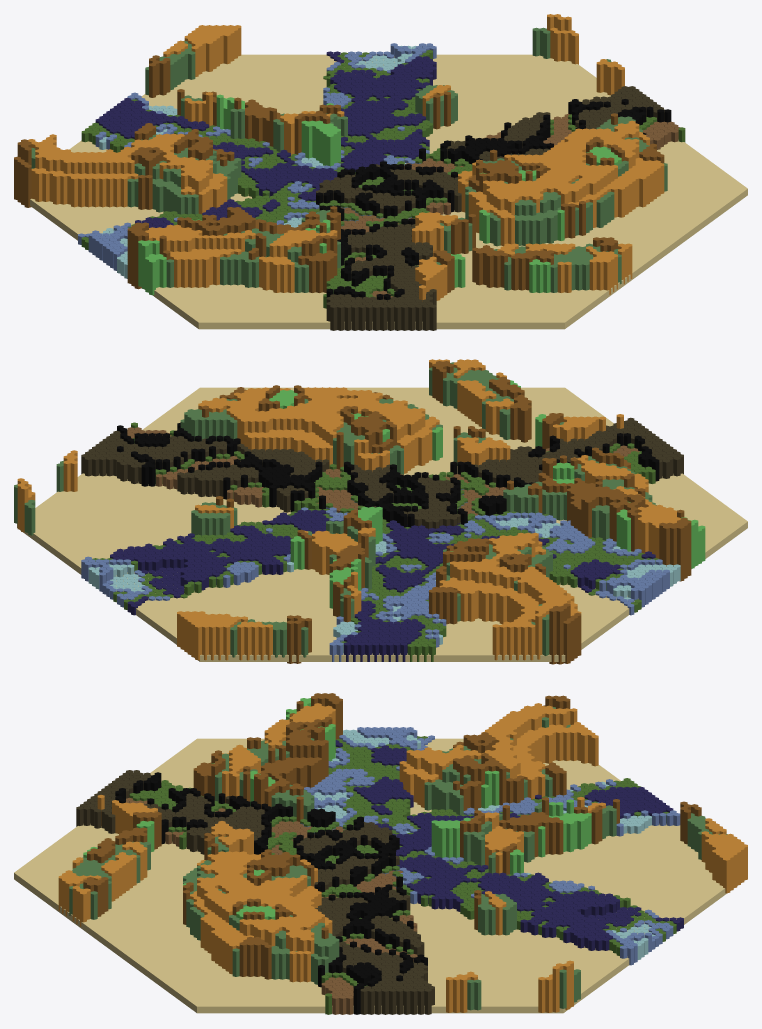
File: 0009_tile_1100012.fbx
3 renders of one model, top to bottom at view 1: azimuth 30°, elevation 25°; view 2: azimuth 150°, elevation 25°; view 3: azimuth 270°, elevation 25°, orthographic.
Visible parts, largest first — view 1: Plane; view 2: Plane; view 3: Plane.
Boxes of the visible parts, box(x1,y1,x2,y2) form: Plane: box(14, 14, 747, 330); Plane: box(14, 359, 747, 664); Plane: box(14, 693, 747, 1014).
Size of the model in its own units: 1008 by 91.59 by 1152.
